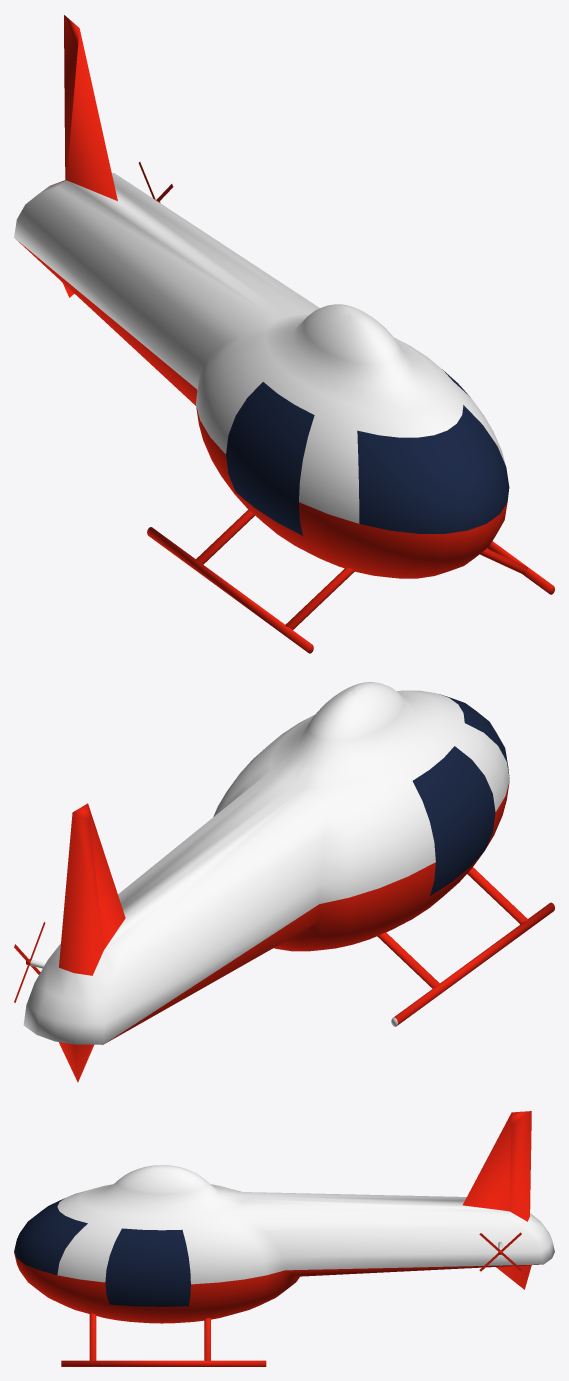
Rendered from scene_helicopter.glb.
The picture shows the model from 3 angles, top to bottom: view 1: azimuth 30°, elevation 25°; view 2: azimuth 150°, elevation 25°; view 3: azimuth 270°, elevation 25°; orthographic projection. The views are drawn at different scales.
Visible parts, largest first — view 1: Sphere; view 2: Sphere; view 3: Sphere.
Boxes of the visible parts, x1,y1,x2,y2 form: Sphere: (14,15,554,653); Sphere: (14,682,554,1082); Sphere: (14,1111,554,1366).
Size of the model in its own units: 6.42 by 8.44 by 18.97.
1 material, 1 textured.
